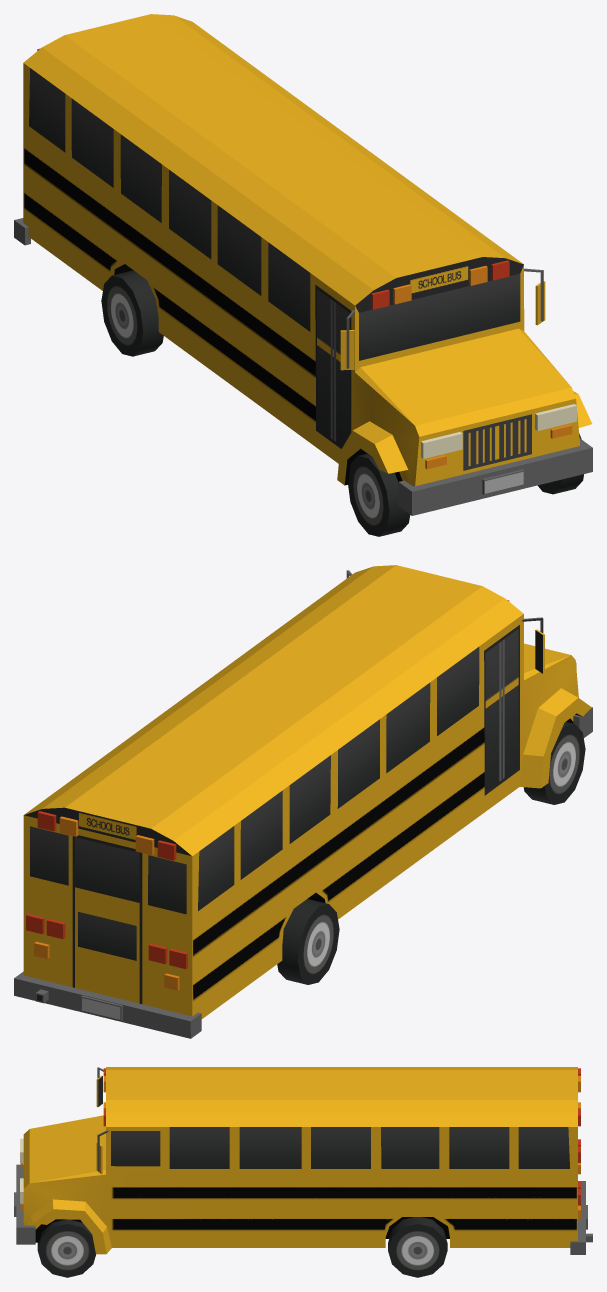
File: SchoolBus.fbx
3 views of the same model, one above another, from view 1: azimuth 30°, elevation 25°; view 2: azimuth 150°, elevation 25°; view 3: azimuth 270°, elevation 25° (orthographic). The views are drawn at different scales.
Visible parts, largest first — view 1: SchoolBus, TireBR, TireFR; view 2: SchoolBus, TireBR, TireFR; view 3: SchoolBus, TireBL, TireFL.
Part boxes in pixels (x1,y1,x2,y2): SchoolBus: [14, 14, 592, 515]; TireBR: [101, 270, 163, 356]; TireFR: [348, 453, 410, 536]; SchoolBus: [14, 565, 592, 1038]; TireBR: [277, 899, 339, 984]; TireFR: [523, 722, 585, 804]; SchoolBus: [14, 1067, 592, 1254]; TireBL: [388, 1217, 447, 1277]; TireFL: [37, 1219, 95, 1277].
Bounding box in the file's own units: 242 × 252 × 833.
